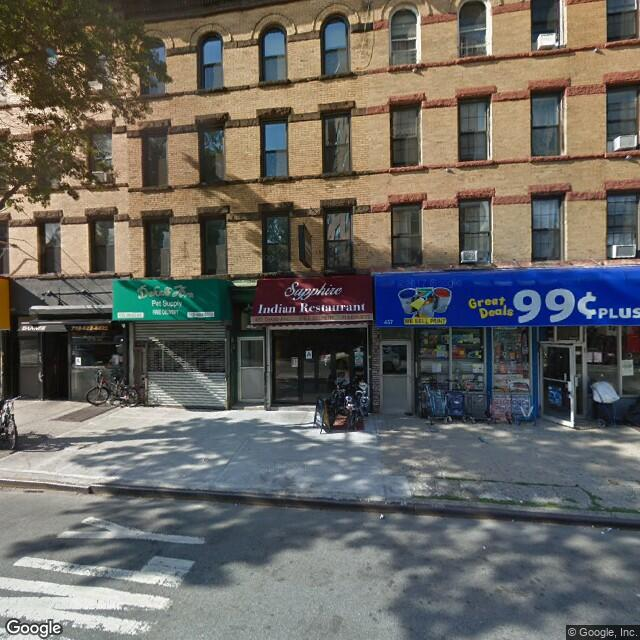litter: (607, 522, 617, 535), (232, 500, 239, 508), (519, 497, 525, 505), (599, 528, 604, 535), (480, 544, 486, 549), (379, 514, 384, 518), (509, 516, 514, 520)
